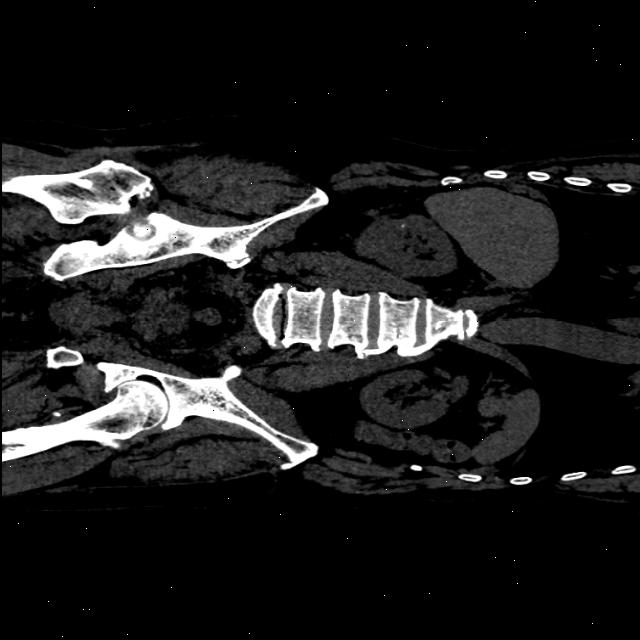kidneystone: (396, 220, 407, 230)
